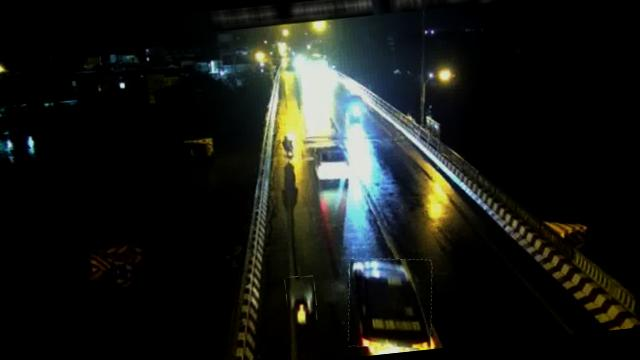Bike: (283, 276, 318, 324), (281, 133, 298, 161)
Car: (342, 253, 438, 354), (309, 138, 359, 188)
